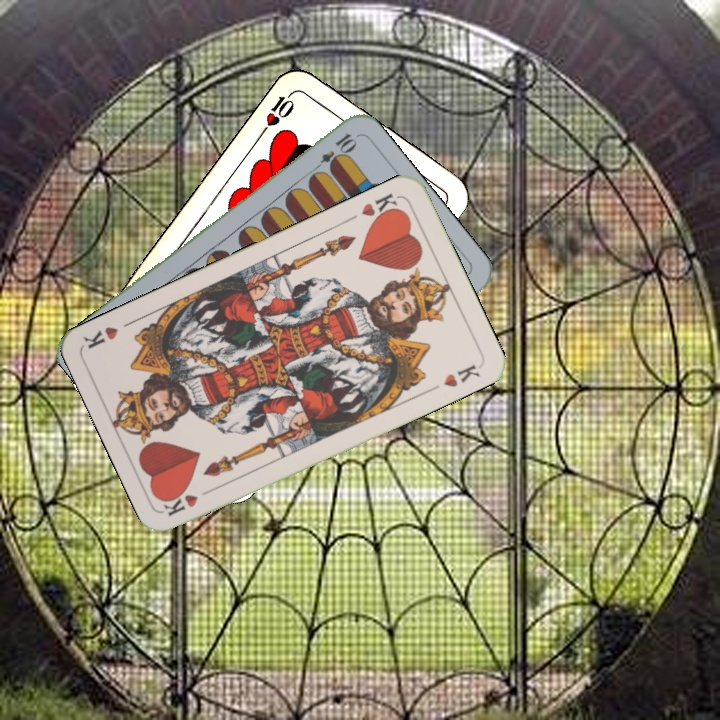E10: (308, 129, 359, 176)
H10: (257, 86, 298, 137)
HK: (160, 483, 218, 519), (357, 189, 403, 225)
